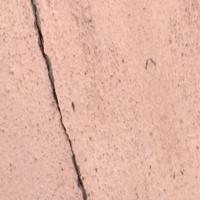crack: (20, 0, 95, 196)
